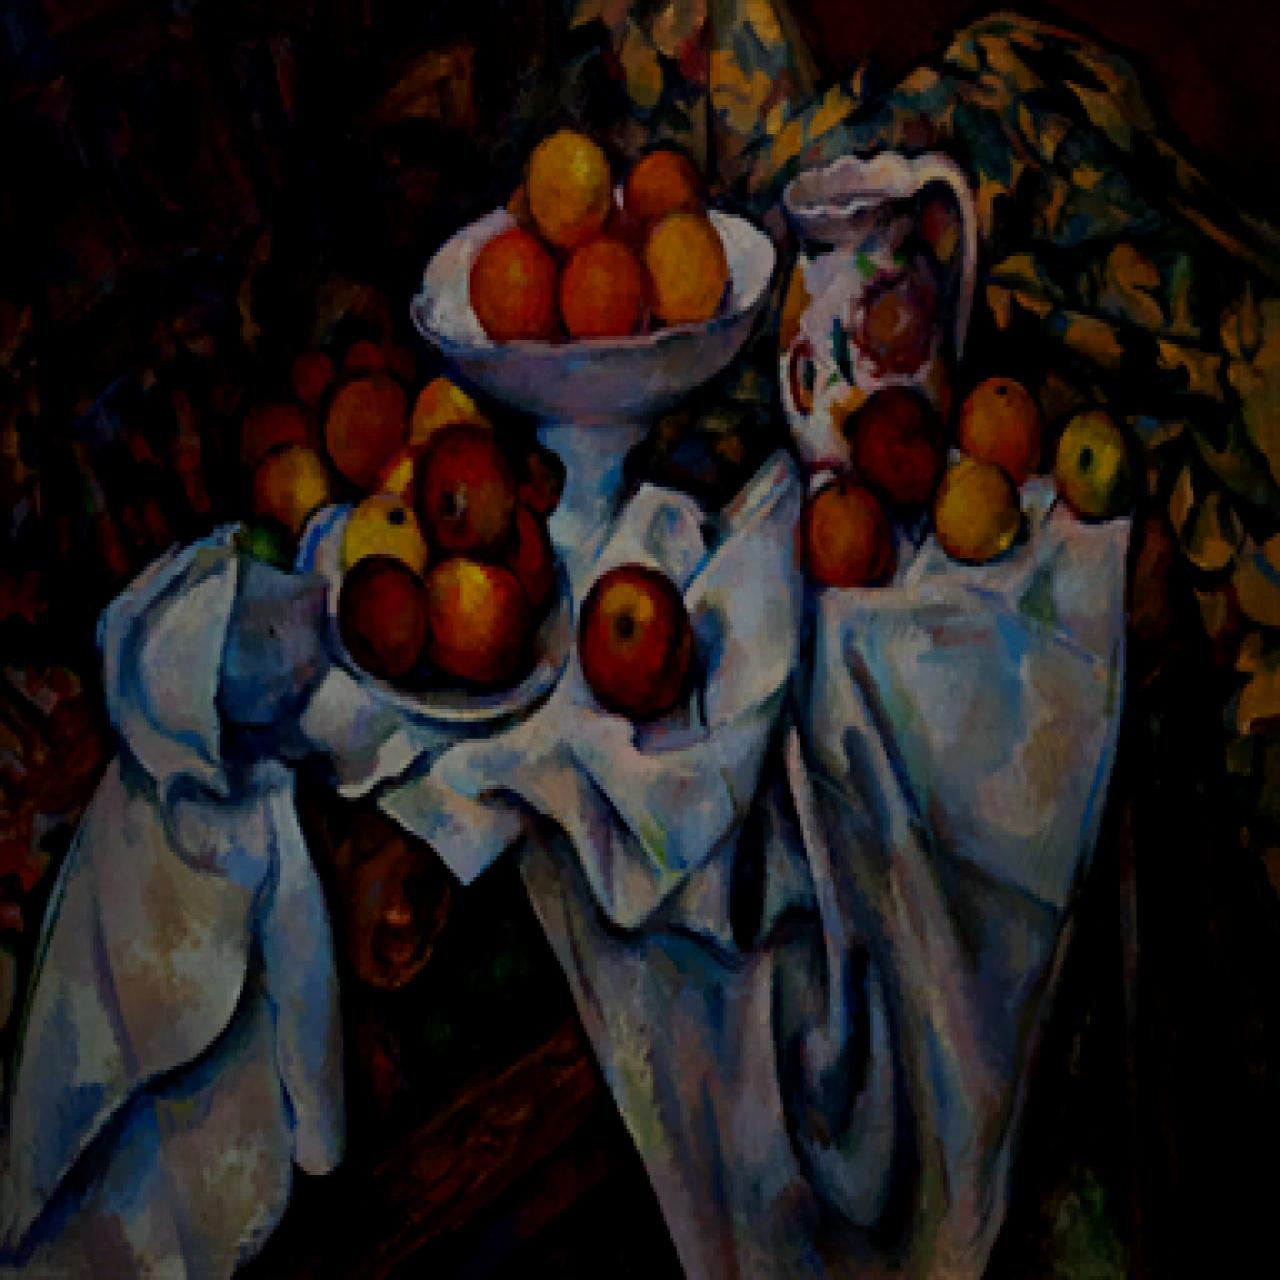AppleOrange: (1, 1, 1278, 1276)
